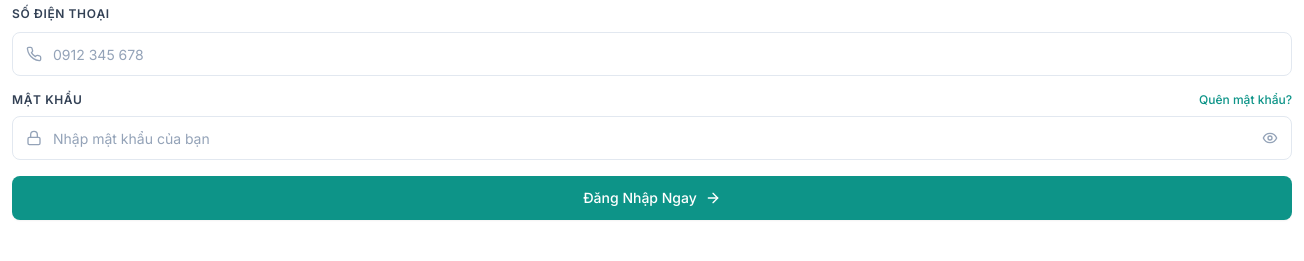
Test: LoginForm › displays validation error when phone number format is invalid
The image size is (1304, 261).
In the field with placeholder "0912 345 678": [652, 54] box [12,32,1292,76], type "012345"
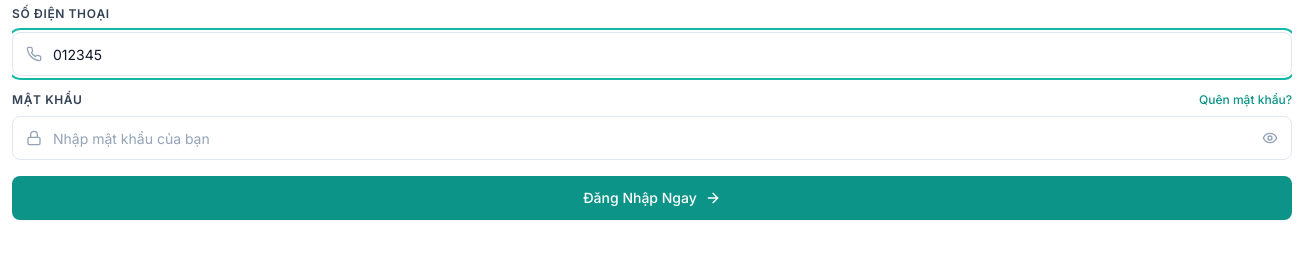
In the password field with placeholder "Nhập mật khẩu của bạn": [652, 138] box [12,116,1292,160], type "ValidPassword123"
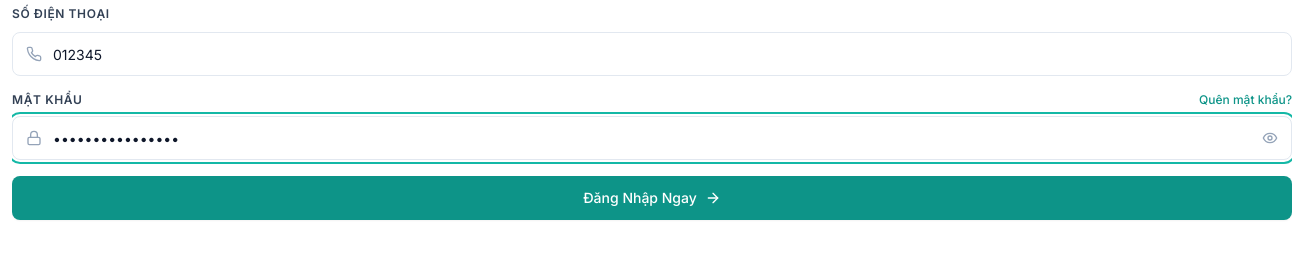
Click the button "Đăng Nhập Ngay": [652, 198] box [12,176,1292,220]
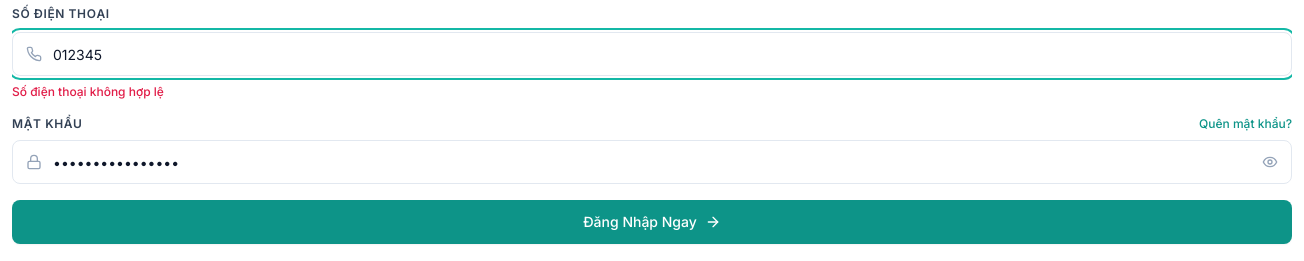
Expected: the text "Số điện thoại không hợp lệ" is shown, [12,84,164,99]
